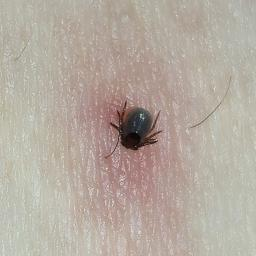Ixodes scapularis: (111, 102, 162, 150)
